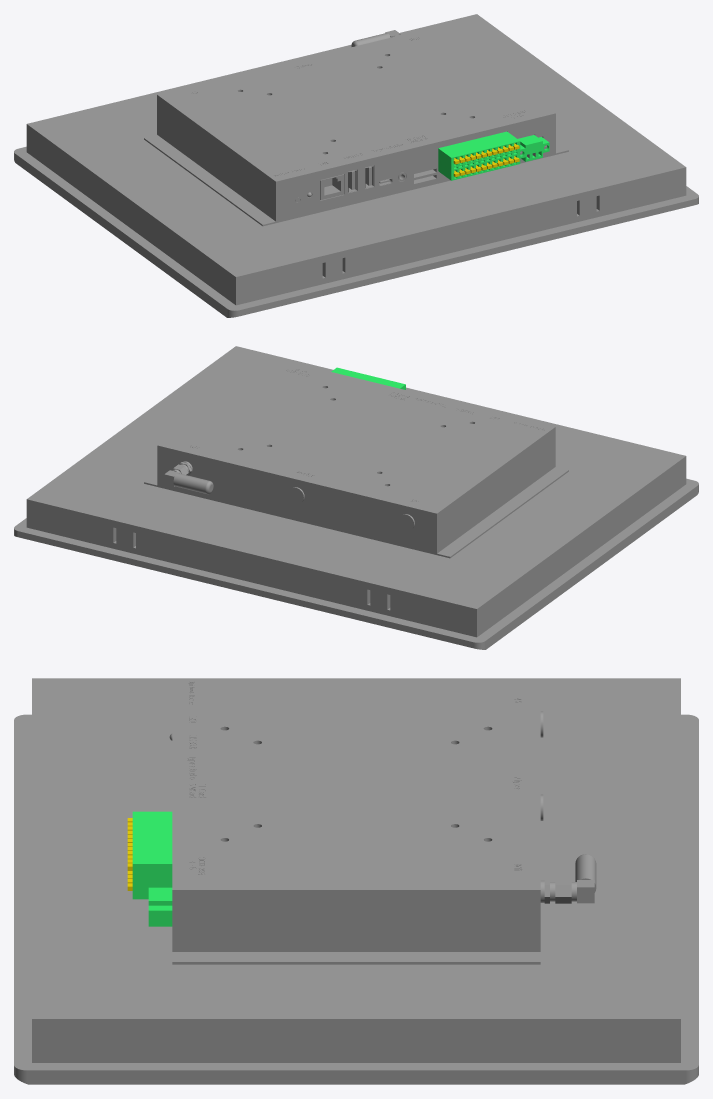
Rendered from PPC-CM4-121.fbx.
The picture shows the model from 3 angles, top to bottom: view 1: azimuth 30°, elevation 25°; view 2: azimuth 150°, elevation 25°; view 3: azimuth 270°, elevation 25°; orthographic projection. The views are drawn at different scales.
Visible parts, largest first — view 1: Part 188, Part 191, Part 193; view 2: Part 188; view 3: Part 188, Part 191.
Part boxes in pixels (x1,y1,x2,y2): Part 188: (14,14,698,317); Part 191: (438,131,549,180); Part 193: (453,143,519,176); Part 188: (14,346,698,649); Part 188: (14,678,698,1084); Part 191: (132,811,172,926).
Bounding box in the file's own units: 32 × 5.14 × 26.03.
